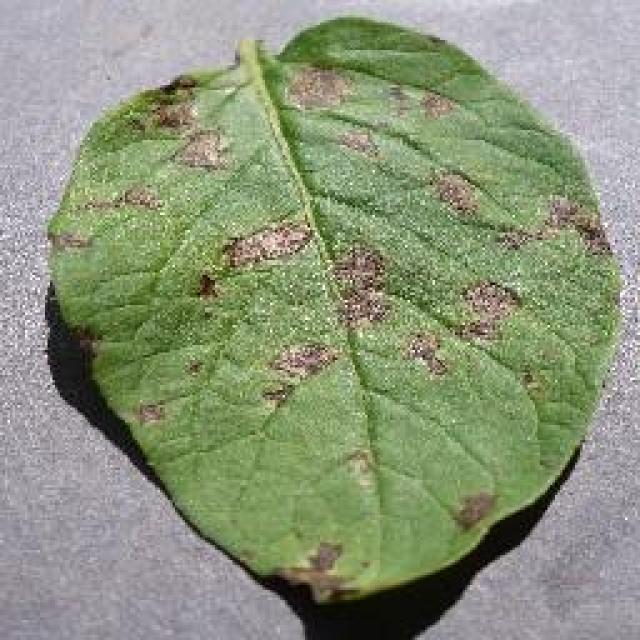Potato___Early_blight: (44, 7, 625, 615)
